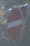No entry: (6, 5, 25, 41)
